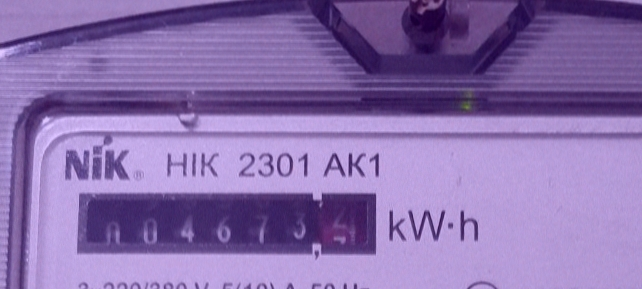0: (101, 217, 121, 247), (139, 215, 157, 246)
2: (328, 200, 348, 232)
3: (289, 208, 306, 242)
4: (177, 211, 195, 246)
6: (211, 211, 232, 245)
7: (249, 211, 271, 248)
screen: (71, 188, 380, 265)
